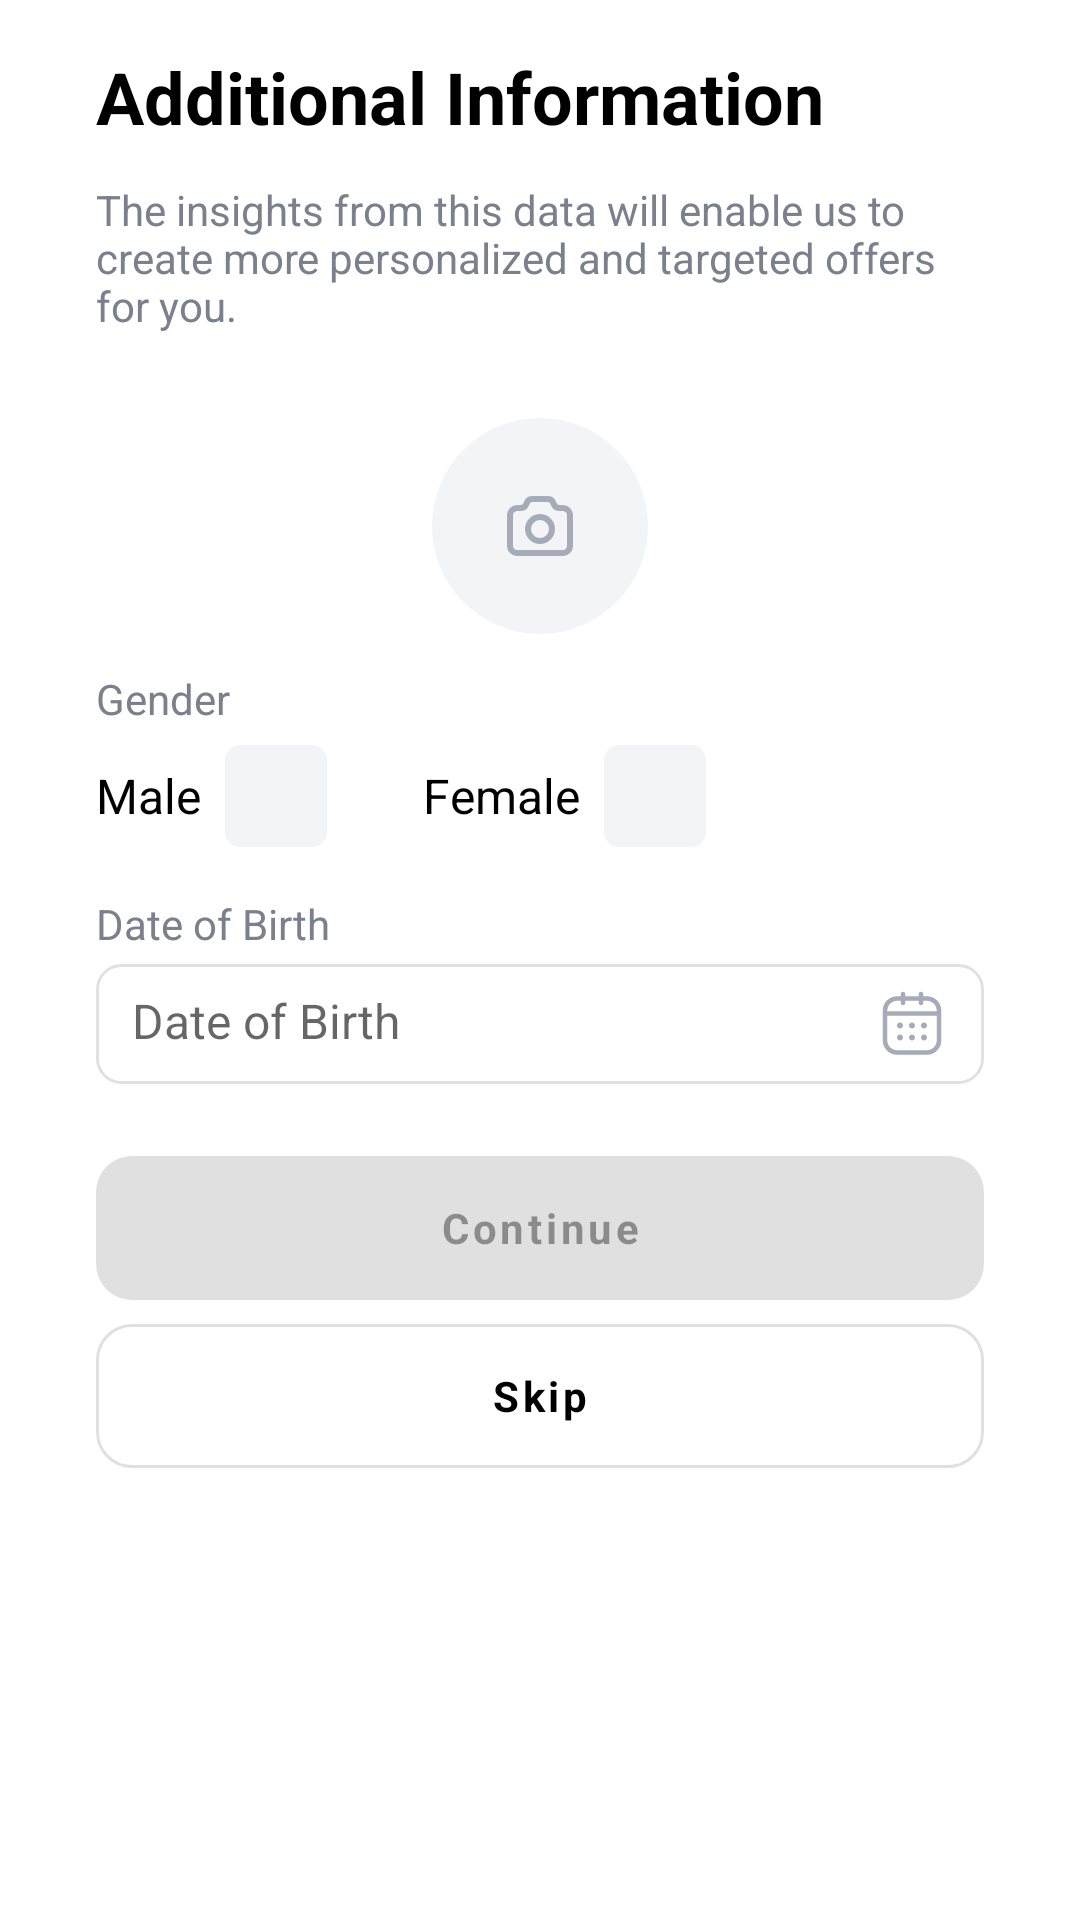

Locate icon controls on the screen. Image size 1080w x 1920h, boxes as (x1,y1,x2,y2).
camera: (432,418,648,634)
